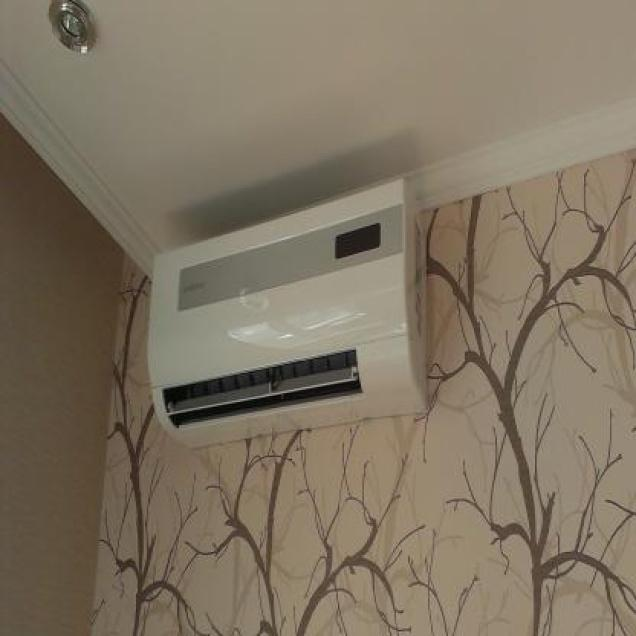AC: (147, 176, 429, 450)
